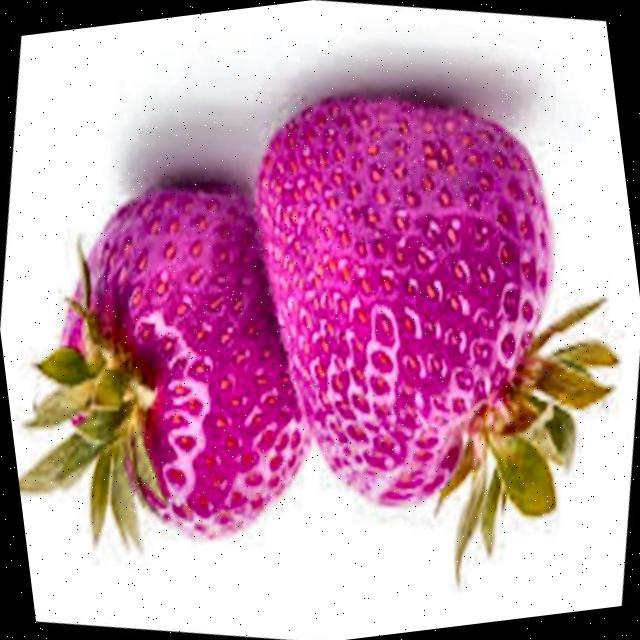strawberry: (256, 96, 615, 579), (18, 184, 308, 546)
